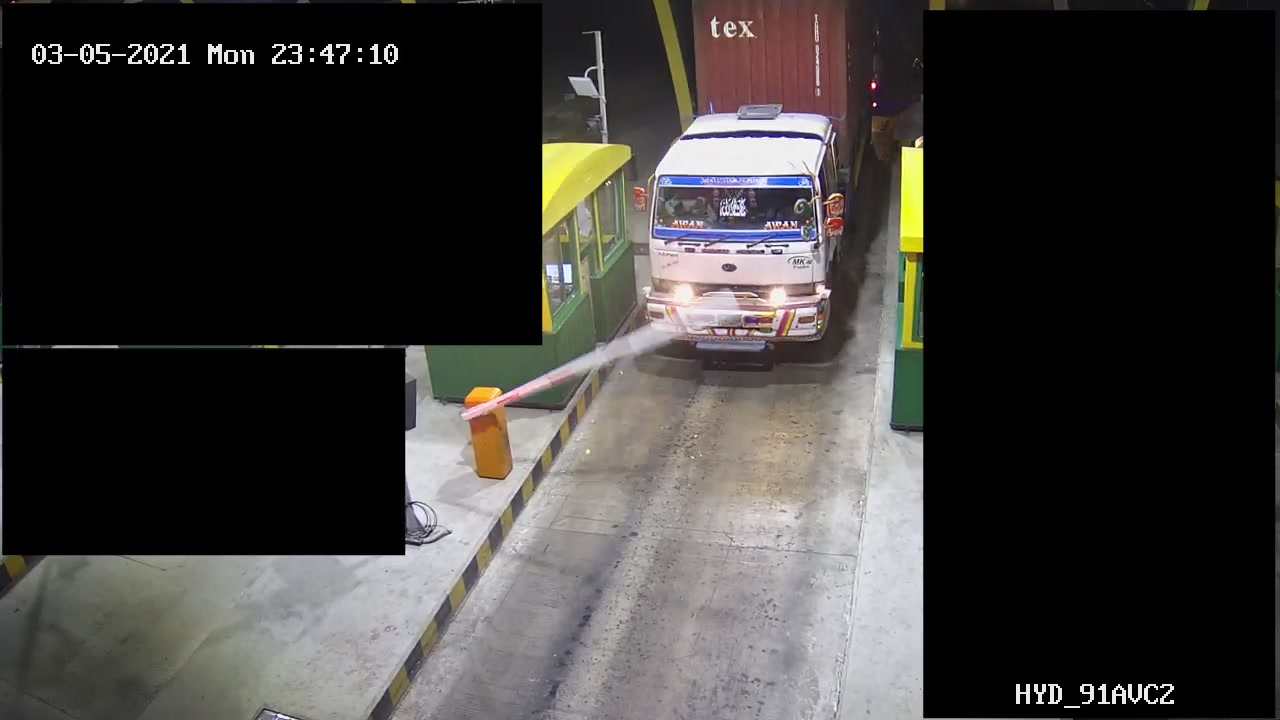F6: (633, 1, 874, 366)
